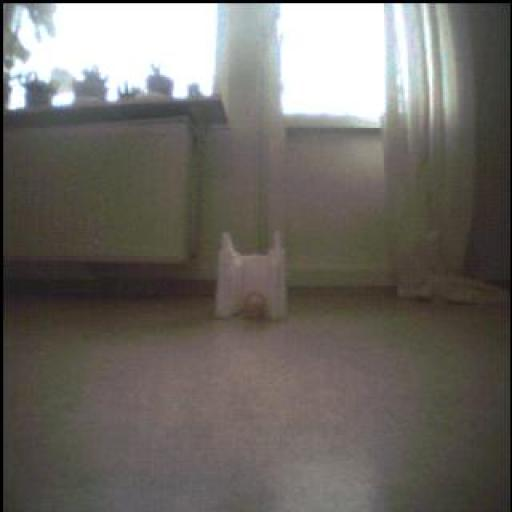Basket: (238, 289, 270, 326)
